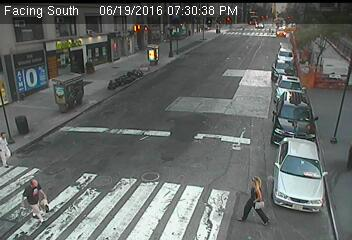neg: (268, 83, 292, 114), (159, 38, 174, 58), (315, 166, 329, 185), (305, 98, 319, 117), (196, 30, 209, 47)
pos: (234, 173, 281, 236), (16, 174, 53, 223)
